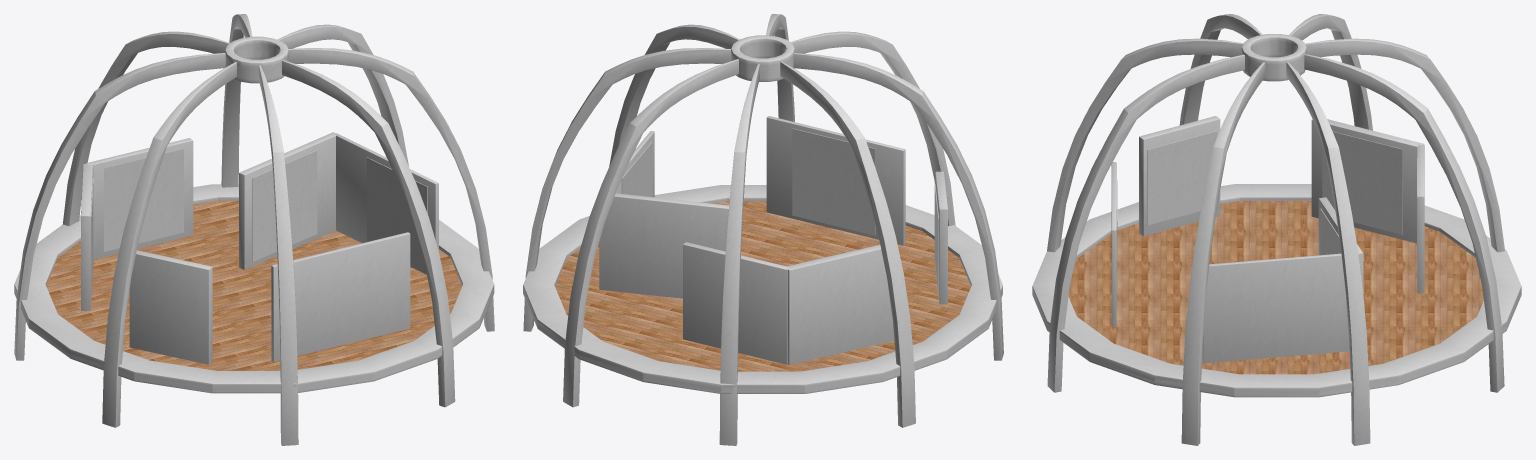
File: gallery.gltf
3 views of the same model, side by side, from view 1: azimuth 30°, elevation 25°; view 2: azimuth 150°, elevation 25°; view 3: azimuth 270°, elevation 25° (orthographic).
Parts seen in each view (by area): view 1: Ground, GroundOuter, Box002, Box003, Ellipse004, Ellipse002, Ellipse003, Ellipse005, Art6, Ellipse001, Art1, Box001 (+8 smaller); view 2: Ground, GroundOuter, Box006, Box001, Box005, Ellipse005, Ellipse007, Art3, Ellipse004, Ellipse006, Box002, Ellipse008 (+7 smaller); view 3: Ground, GroundOuter, Box004, Ellipse007, Ellipse002, Ellipse008, Ellipse001, Art5, Art4, Ellipse006, Ellipse003, Box006 (+8 smaller).
Part boxes in pixels (<box>): Ground: <box>46,200,462,370</box>; GroundOuter: <box>14,184,494,393</box>; Box002: <box>271,232,410,361</box>; Box003: <box>129,250,212,364</box>; Ellipse004: <box>102,62,236,427</box>; Ellipse002: <box>282,60,455,407</box>; Ellipse003: <box>258,65,298,445</box>; Ellipse005: <box>14,53,225,360</box>; Art6: <box>104,149,183,251</box>; Ellipse001: <box>288,48,494,331</box>; Art1: <box>252,150,317,261</box>; Box001: <box>239,132,337,269</box>; Ground: <box>555,201,970,371</box>; GroundOuter: <box>523,185,1002,393</box>; Box006: <box>787,244,894,365</box>; Box001: <box>599,193,729,298</box>; Box005: <box>683,242,789,364</box>; Ellipse005: <box>780,61,915,427</box>; Ellipse007: <box>563,59,738,407</box>; Art3: <box>792,128,875,235</box>; Ellipse004: <box>793,53,1003,360</box>; Ellipse006: <box>719,64,759,445</box>; Box002: <box>766,116,905,245</box>; Ellipse008: <box>523,48,730,331</box>; Ground: <box>1068,201,1483,374</box>; GroundOuter: <box>1032,184,1521,397</box>; Box004: <box>1202,253,1359,363</box>; Ellipse007: <box>1304,54,1504,392</box>; Ellipse002: <box>1047,54,1244,392</box>; Ellipse008: <box>1286,62,1370,445</box>; Ellipse001: <box>1181,62,1265,445</box>; Art5: <box>1322,131,1402,234</box>; Art4: <box>1147,131,1217,225</box>; Ellipse006: <box>1305,38,1504,252</box>; Ellipse003: <box>1047,38,1243,252</box>; Box006: <box>1311,119,1424,243</box>.
Bounding box in the file's own units: 133 × 91.93 × 135.
2 materials, 2 textured.
